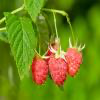Raspberry leaf: (3, 11, 37, 83), (24, 0, 45, 22)
